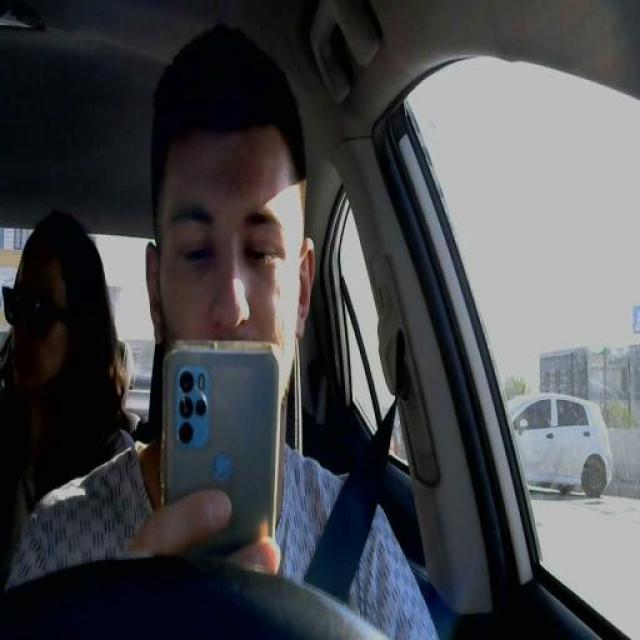phone: (155, 338, 277, 564)
